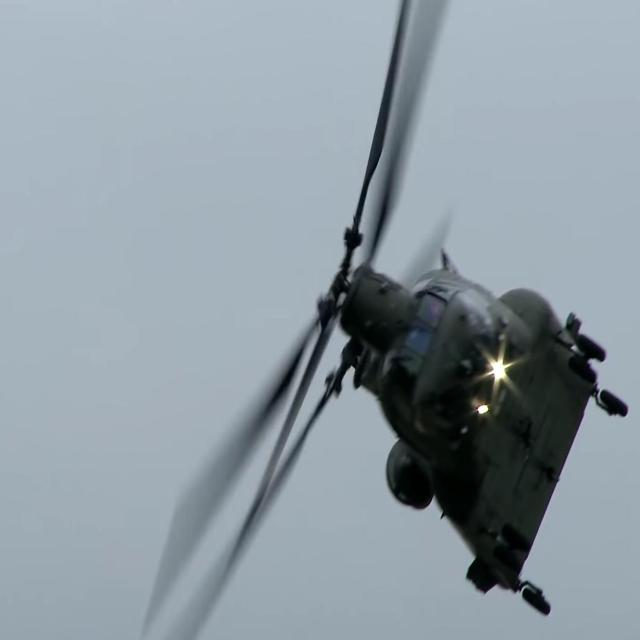Helicopter: (183, 21, 596, 609)
